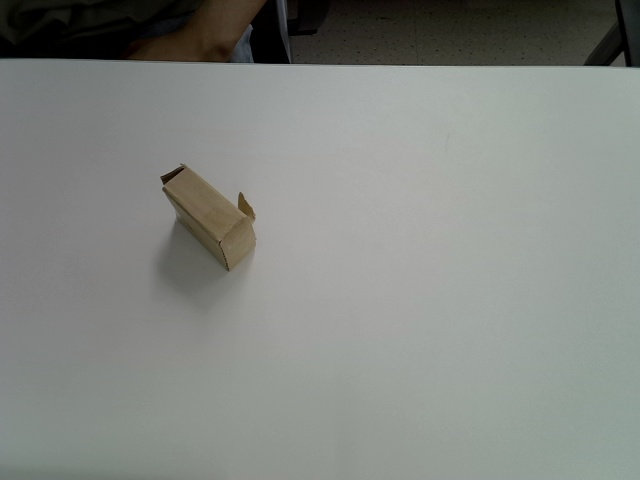defect: (160, 163, 258, 272)
